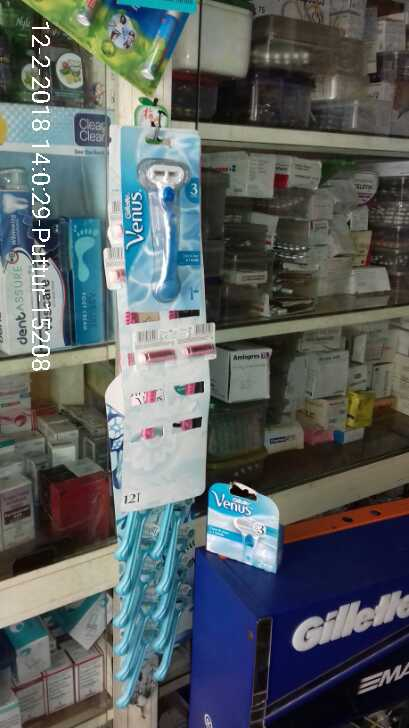venus: (122, 128, 201, 314), (205, 487, 287, 577)
